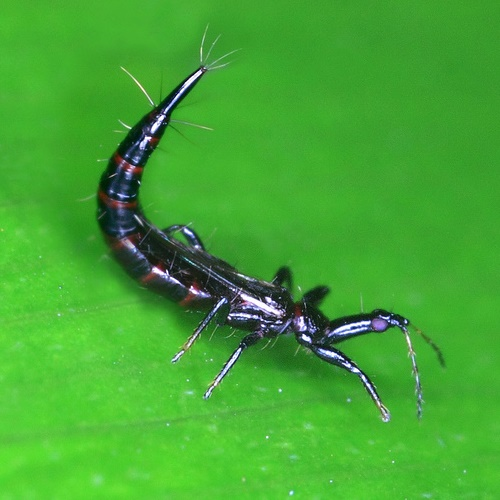Thrips: (118, 50, 443, 444)
